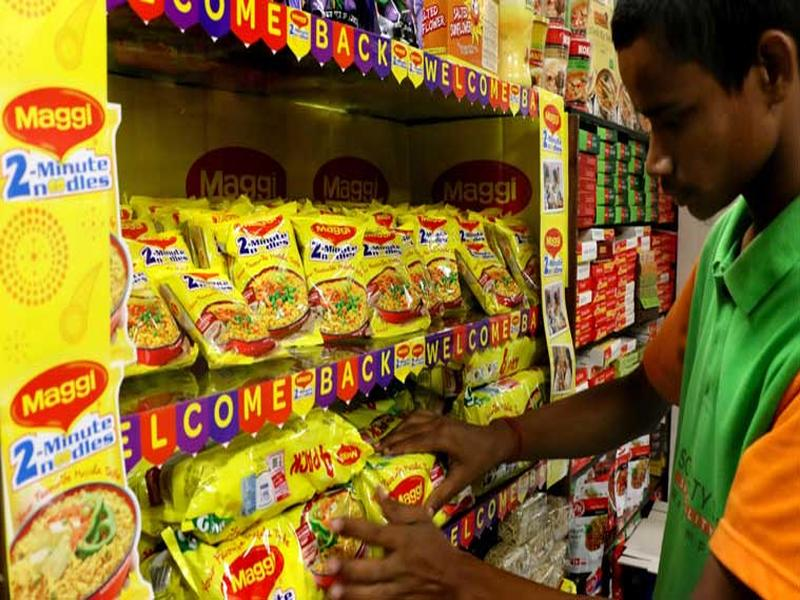maggi-small: (224, 228, 320, 340), (154, 273, 279, 359), (294, 220, 375, 337), (451, 218, 527, 315), (364, 236, 432, 332)
